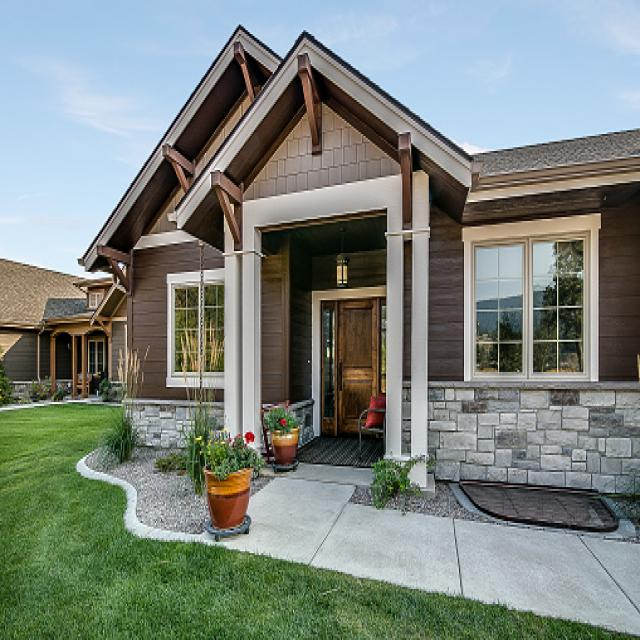building: (75, 18, 640, 503)
